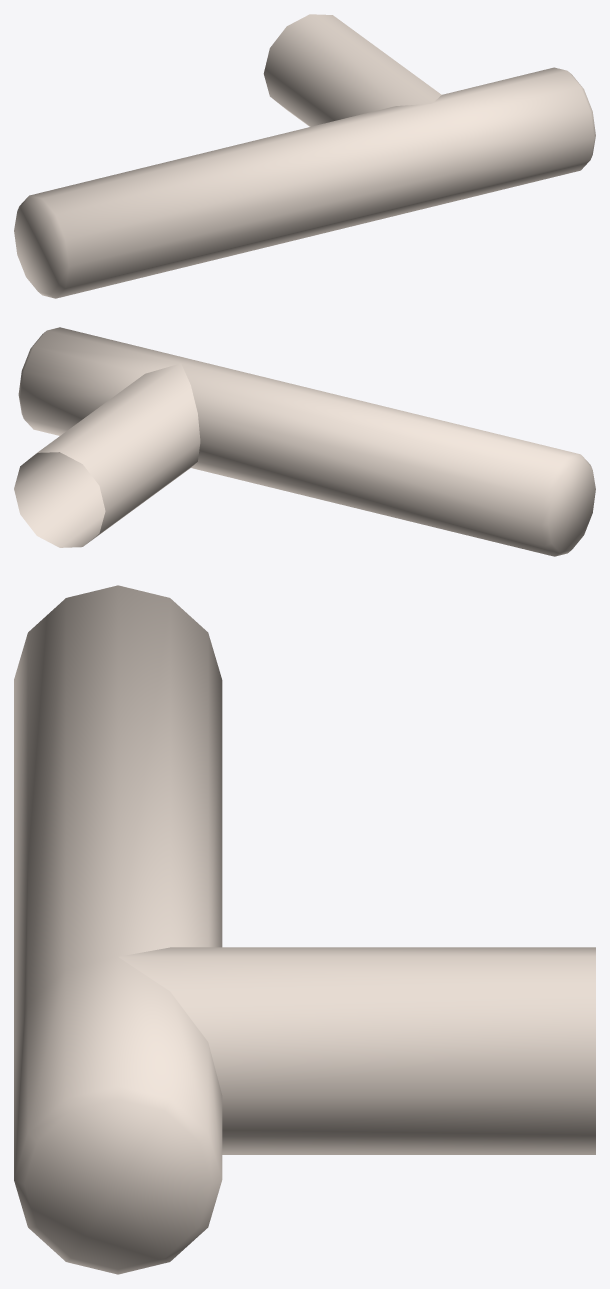
Rendered from SinkFaucetKnobR_15_SinkFaucetKnobR_15_2.obj.
The picture shows the model from 3 angles, top to bottom: view 1: azimuth 30°, elevation 25°; view 2: azimuth 150°, elevation 25°; view 3: azimuth 270°, elevation 25°; orthographic projection. The views are drawn at different scales.
Parts seen in each view (by area): view 1: SinkFaucetKnobR_15; view 2: SinkFaucetKnobR_15; view 3: SinkFaucetKnobR_15.
Boxes of the visible parts, x1,y1,x2,y2 form: SinkFaucetKnobR_15: [14, 14, 595, 298]; SinkFaucetKnobR_15: [14, 327, 595, 556]; SinkFaucetKnobR_15: [14, 585, 595, 1274].
Size of the model in its own units: 0.1466 by 0.0253 by 0.0708.
